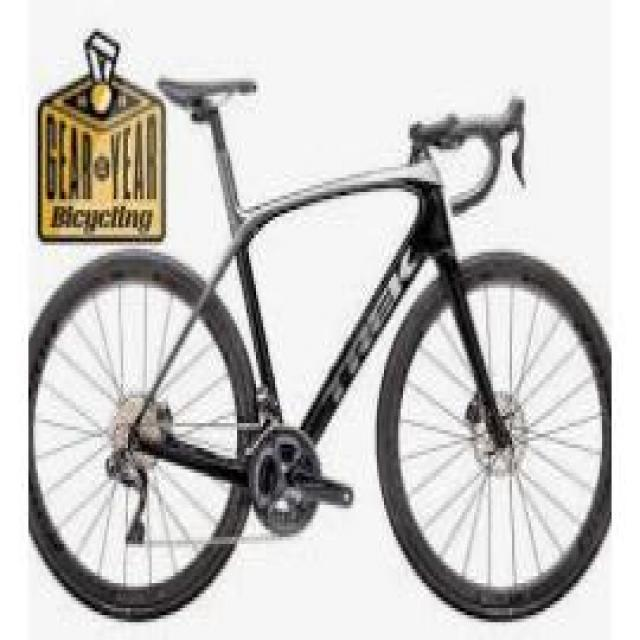bicycle: (23, 48, 599, 631)
